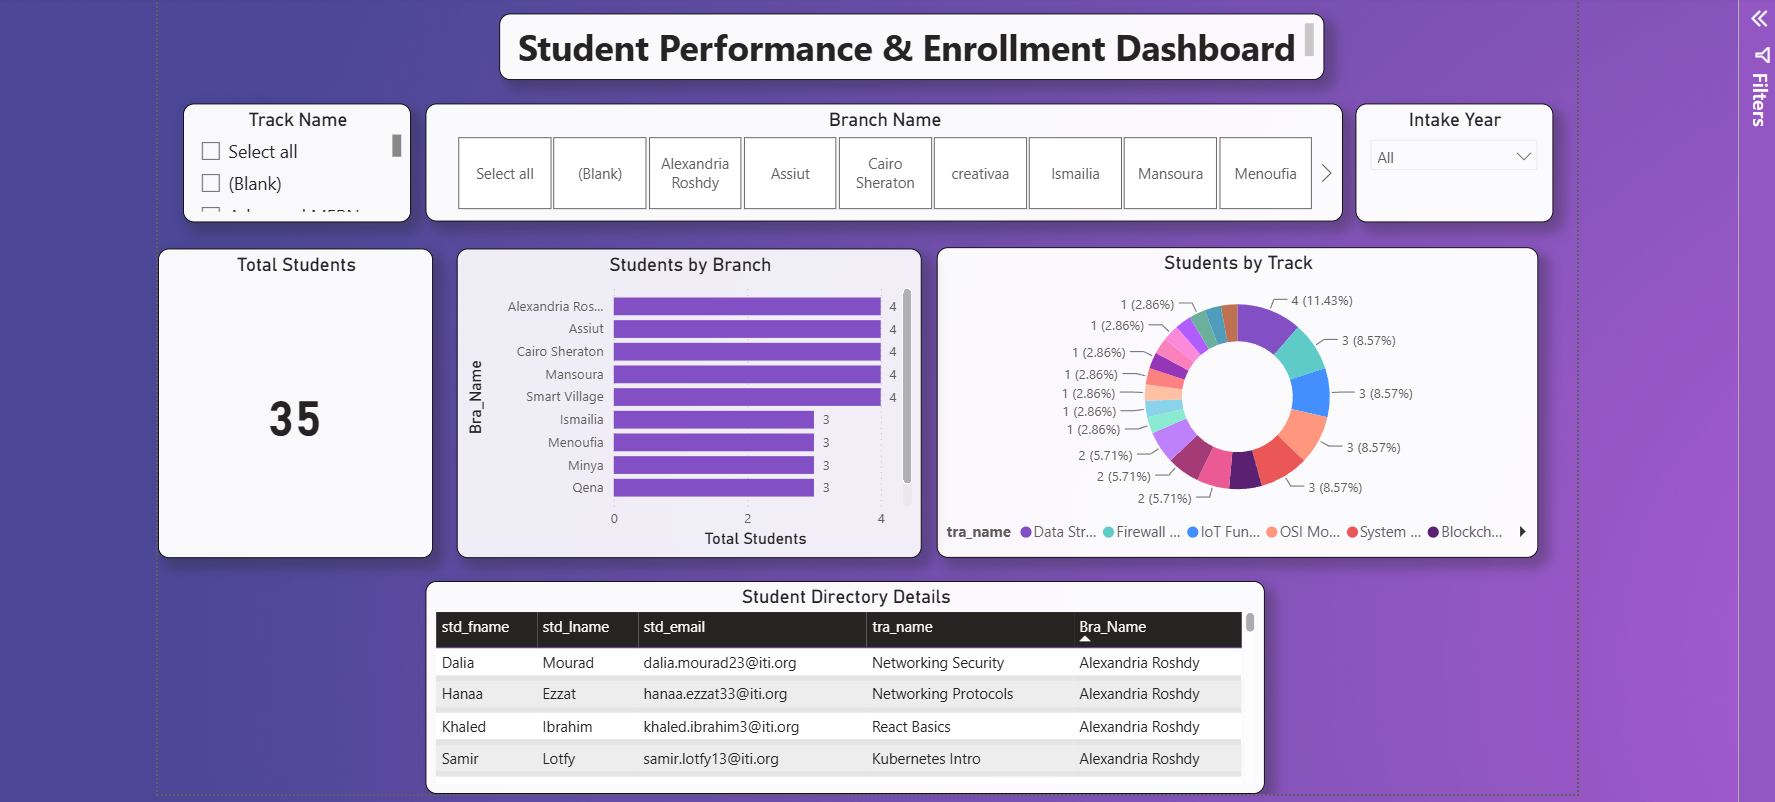

The dashboard page shown, as its layout file describes it:
{"tool":"powerbi","page":{"name":"Students by Track/Department","canvas":[1280,720],"ordinal":0},"visuals":[{"type":"card","title":"Total Students","fields":{"Values":["Student.Total Students"]},"box":[0,227.3,248.1,279.2],"z":0},{"type":"donutChart","title":"Students by Track","fields":{"Category":["Track.tra_name"],"Y":["Student.Total Students"]},"box":[702.7,226.7,542.4,280.1],"z":1000},{"type":"clusteredBarChart","title":"Students by Branch","fields":{"Category":["Branch.Bra_Name"],"Y":["Student.Total Students"]},"box":[268.8,227.3,419.5,279.2],"z":2000},{"type":"tableEx","title":"Student Directory Details","fields":{"Values":["Student.std_fname","Student.std_lname","Student.std_email","Track.tra_name","Branch.Bra_Name"]},"box":[241.6,527.3,757.1,192.2],"z":3000},{"type":"slicer","title":"Track Name","fields":{"Values":["Track.tra_name"]},"box":[22.7,97.2,205.6,106.9],"z":4000},{"type":"slicer","title":"Branch Name","fields":{"Values":["Branch.Bra_Name"]},"box":[241.6,97.4,827.3,106.5],"z":5000},{"type":"slicer","title":"Intake Year","fields":{"Values":["Intake.Year"]},"box":[1080,97.2,178.1,106.9],"z":6000},{"type":"textbox","box":[307.4,15.5,743.6,60.1],"z":7000}]}

Visuals, with their boxes in screenshot pixels (x1, y1, x2, y2):
"Total Students" card: pyautogui.locateOnScreen(157, 246, 430, 553)
"Students by Track" donutChart: pyautogui.locateOnScreen(931, 245, 1529, 554)
"Students by Branch" clusteredBarChart: pyautogui.locateOnScreen(453, 246, 915, 553)
"Student Directory Details" tableEx: pyautogui.locateOnScreen(423, 576, 1257, 788)
"Track Name" slicer: pyautogui.locateOnScreen(182, 102, 409, 220)
"Branch Name" slicer: pyautogui.locateOnScreen(423, 103, 1335, 220)
"Intake Year" slicer: pyautogui.locateOnScreen(1347, 102, 1543, 220)
textbox: pyautogui.locateOnScreen(496, 12, 1315, 79)
